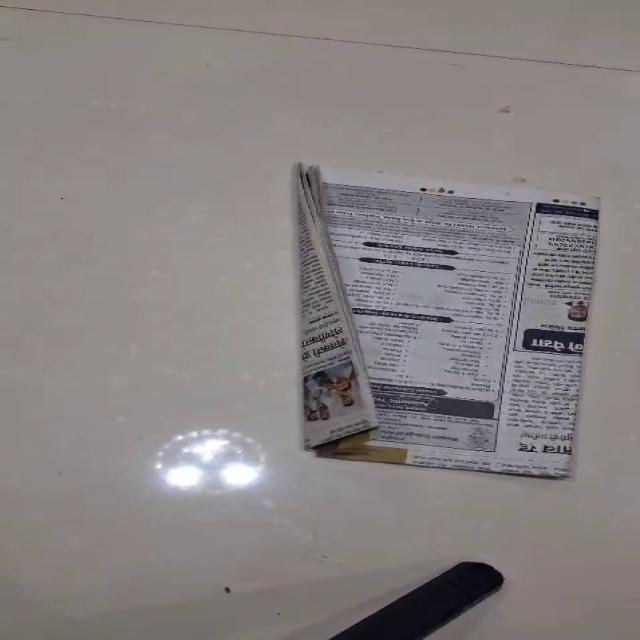paper: (297, 163, 601, 479)
